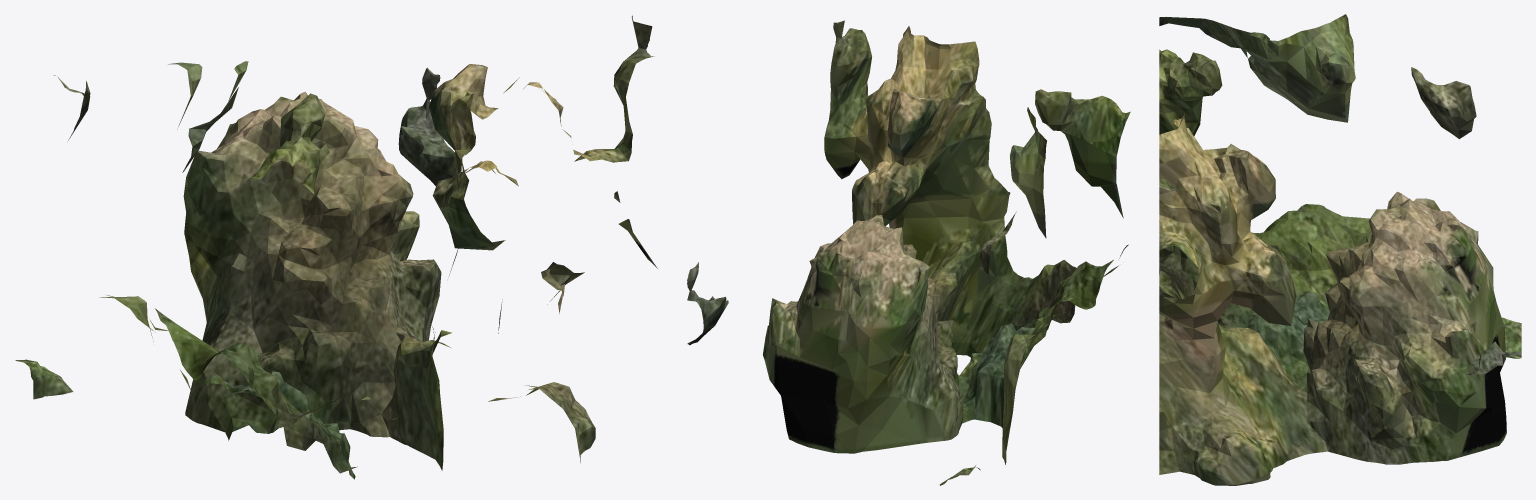
The picture shows the model from 3 angles, left to right: view 1: azimuth 30°, elevation 25°; view 2: azimuth 150°, elevation 25°; view 3: azimuth 270°, elevation 25°; orthographic projection. The views are drawn at different scales.
Size of the model in its own units: 11.8 by 11.8 by 11.8.
6 materials, 6 textured.
